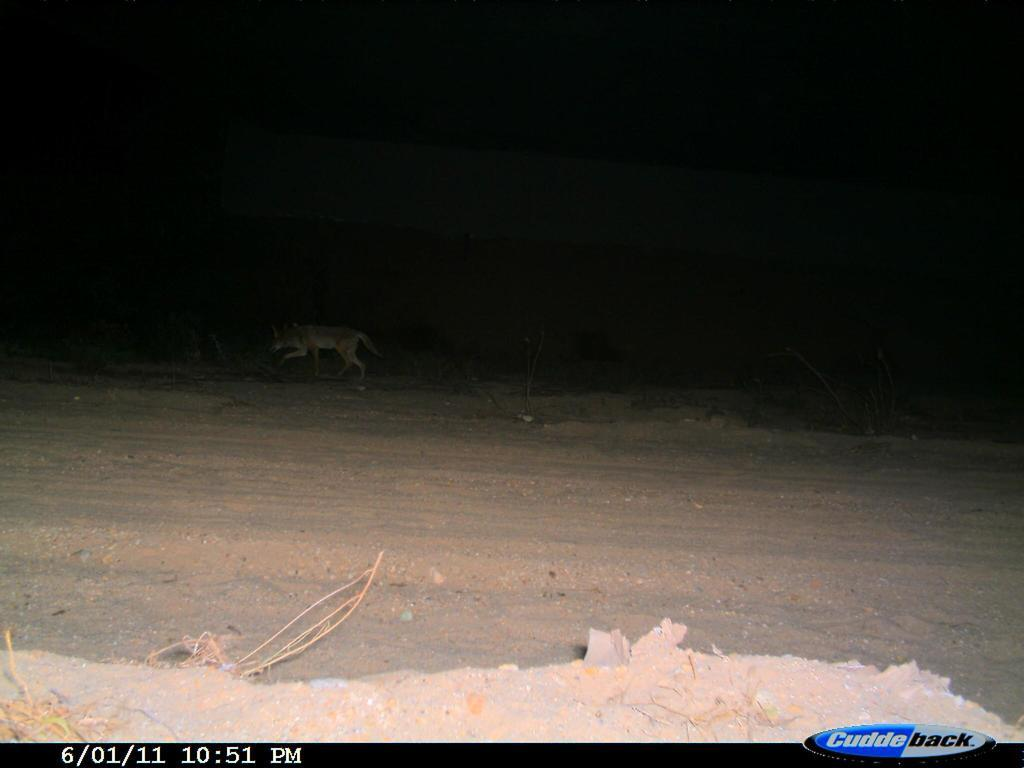coyote: (253, 305, 406, 406)
